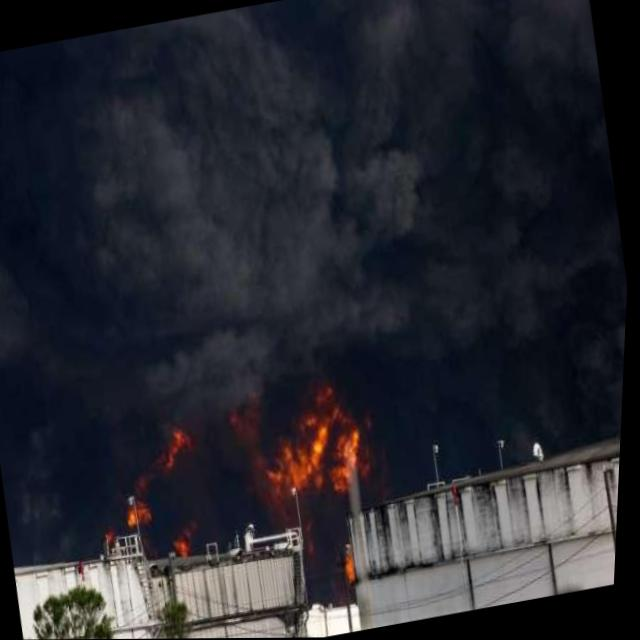fire: (252, 373, 394, 518), (158, 423, 202, 471), (123, 481, 162, 533), (173, 524, 206, 565), (346, 548, 364, 583), (107, 527, 121, 546)
